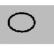no answer: (6, 10, 37, 34)
